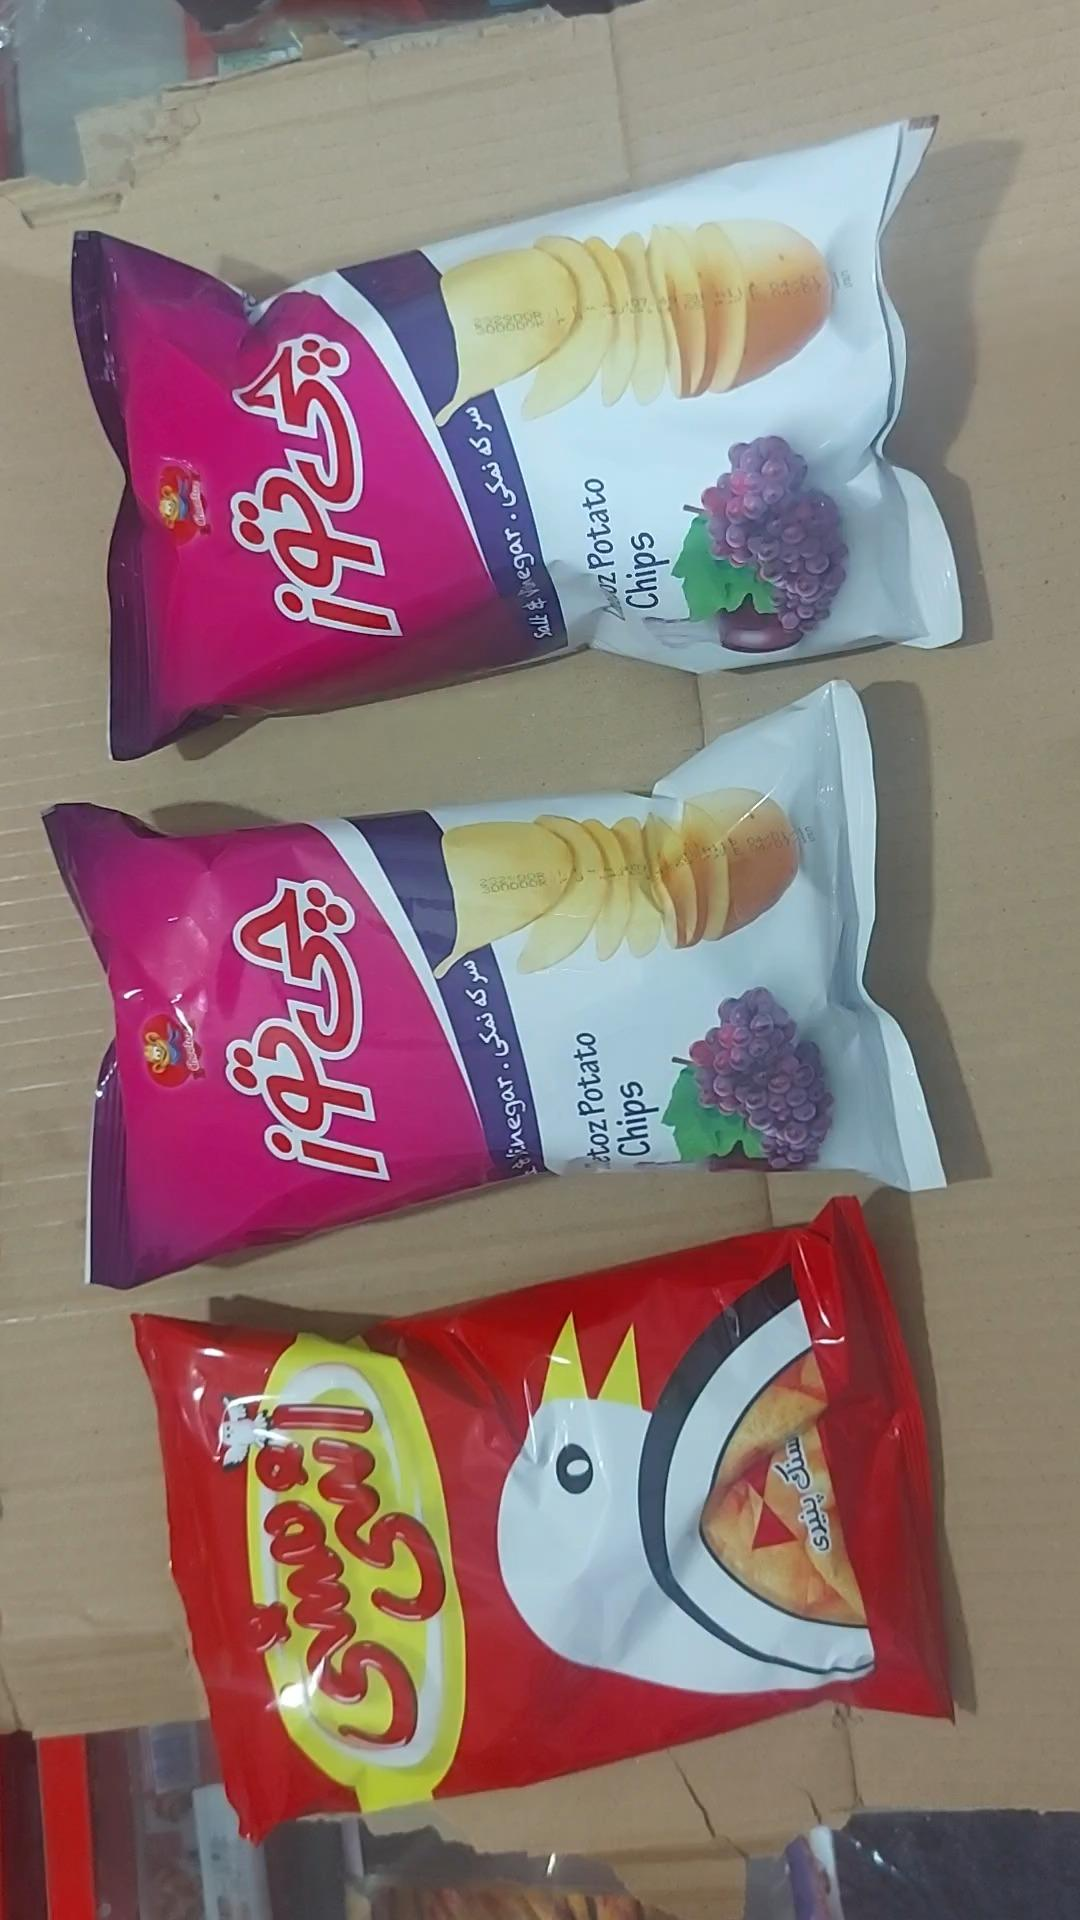Ashi Mashi snacks: (134, 1198, 952, 1841)
Cheetoz vinegar chips: (72, 126, 959, 760), (46, 684, 943, 1288)
